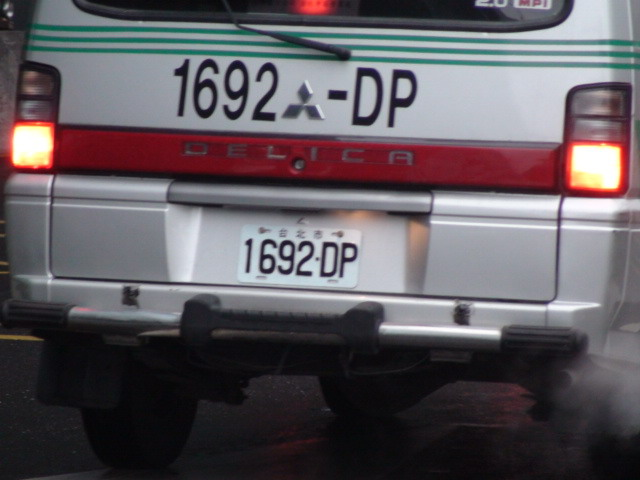plate: (235, 221, 364, 289)
